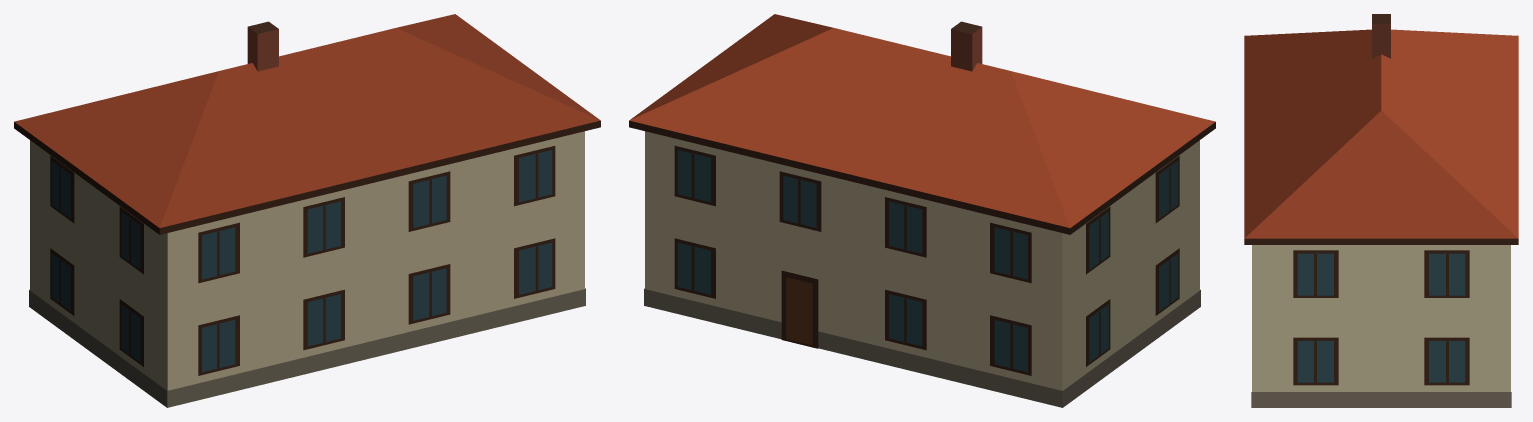
File: bulgarian-house.glb
3 renders of one model, left to right at view 1: azimuth 30°, elevation 25°; view 2: azimuth 150°, elevation 25°; view 3: azimuth 270°, elevation 25°, orthographic. The views are drawn at different scales.
Parts seen in each view (by area): view 1: Sofia low-rise house; view 2: Sofia low-rise house; view 3: Sofia low-rise house.
Boxes of the visible parts, x1,y1,x2,y2 form: Sofia low-rise house: (14,14,600,407); Sofia low-rise house: (629,14,1215,407); Sofia low-rise house: (1244,14,1518,407).
Bounding box in the file's own units: 14.96 × 9.37 × 8.55.
